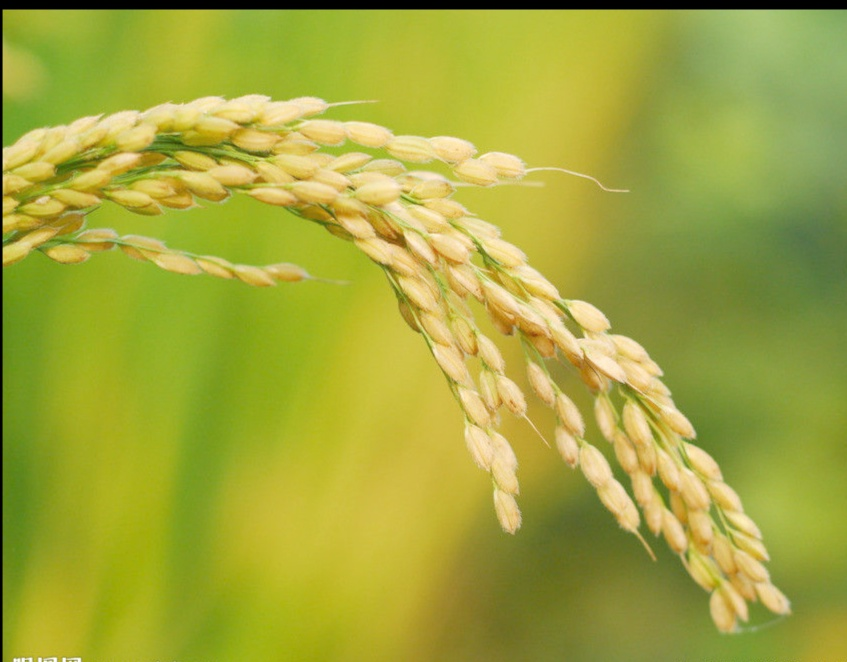rice: (3, 59, 806, 632)
